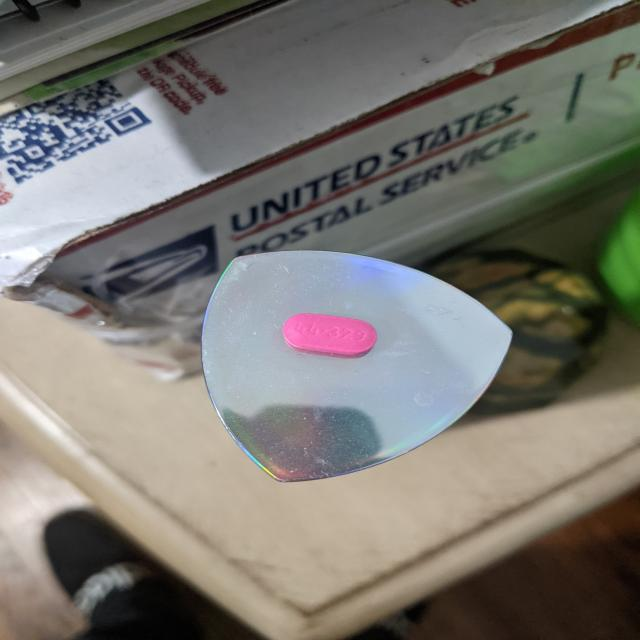non-organic waste: (282, 312, 378, 357)
